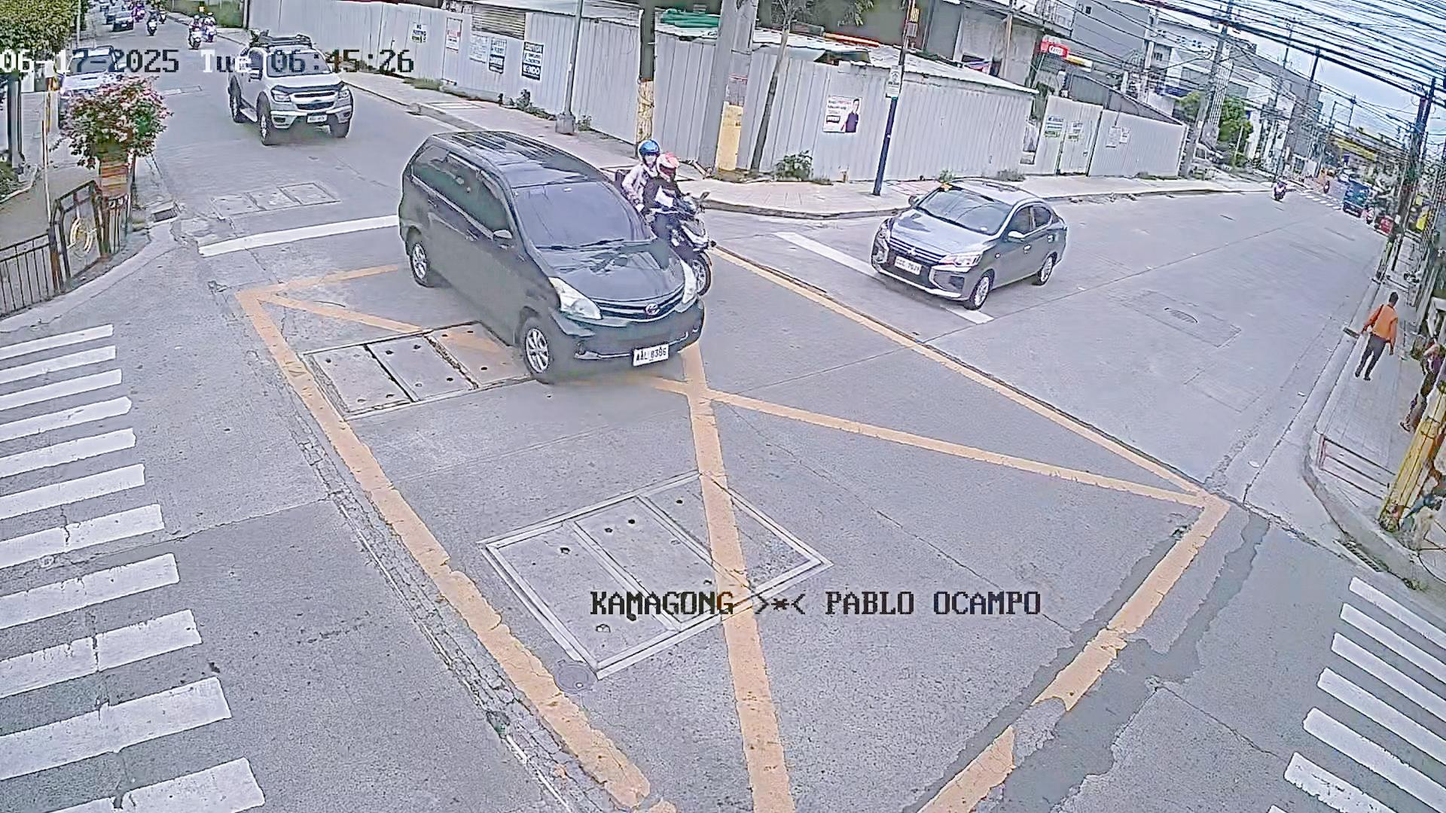Car: (351, 120, 712, 390), (871, 142, 1110, 344), (212, 35, 355, 154)
Motor: (604, 86, 752, 271)
